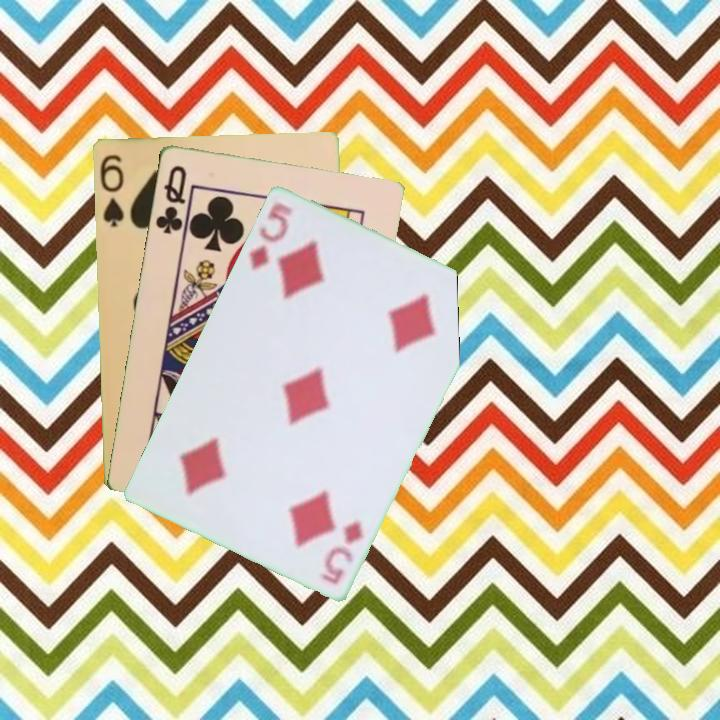5d: (245, 198, 295, 273), (316, 517, 367, 587)
6s: (96, 151, 126, 229)
Qc: (151, 161, 189, 237)
